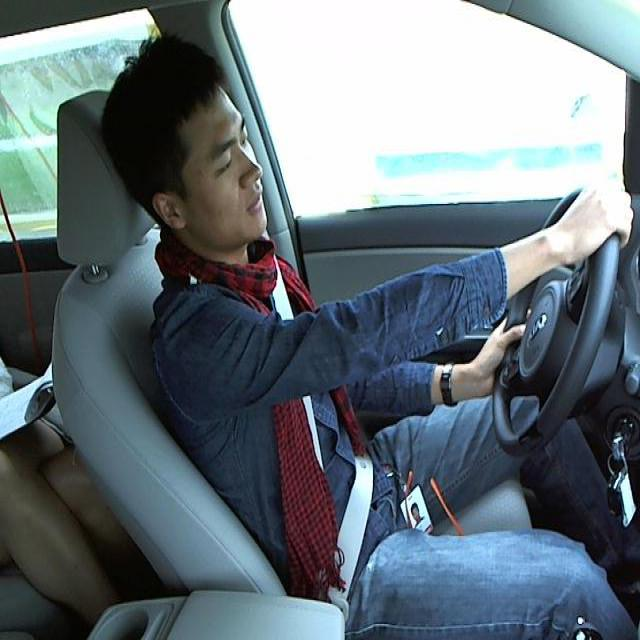seatbelt: (275, 315, 387, 601)
